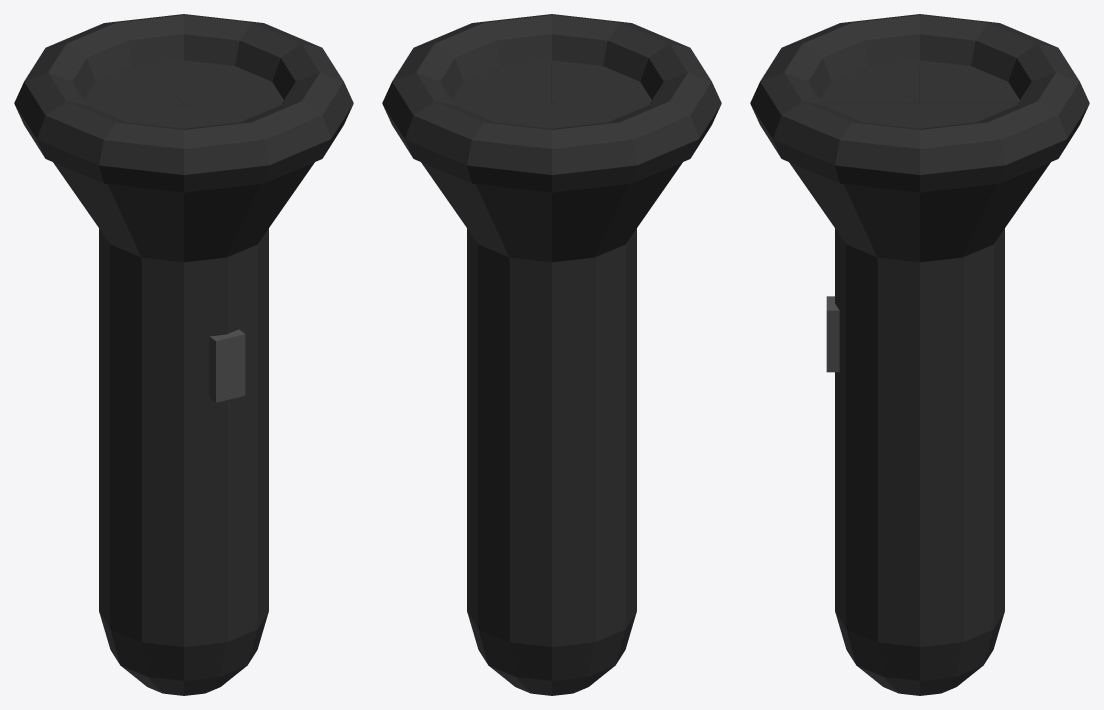
Rendered from TorchlightObject.obj.
3 renders of one model, left to right at view 1: azimuth 30°, elevation 25°; view 2: azimuth 150°, elevation 25°; view 3: azimuth 270°, elevation 25°, orthographic.
Parts seen in each view (by area): view 1: cylinder, torus, cone, sphere, cube; view 2: cylinder, torus, cone, sphere; view 3: cylinder, torus, cone, sphere, cube.
Boxes of the visible parts, left/top/right/bottom form: cylinder: left=99, top=228, right=268, bottom=647; torus: left=14, top=14, right=353, bottom=192; cone: left=53, top=60, right=314, bottom=262; sphere: left=99, top=612, right=268, bottom=695; cube: left=209, top=329, right=245, bottom=402; cylinder: left=467, top=228, right=636, bottom=647; torus: left=382, top=14, right=721, bottom=192; cone: left=421, top=60, right=682, bottom=262; sphere: left=467, top=612, right=636, bottom=695; cylinder: left=835, top=228, right=1004, bottom=647; torus: left=750, top=14, right=1089, bottom=192; cone: left=789, top=60, right=1050, bottom=262; sphere: left=835, top=612, right=1004, bottom=695; cube: left=826, top=296, right=839, bottom=372.
Bounding box in the file's own units: 1.25 × 2.5 × 1.25.
2 materials, 2 textured.
